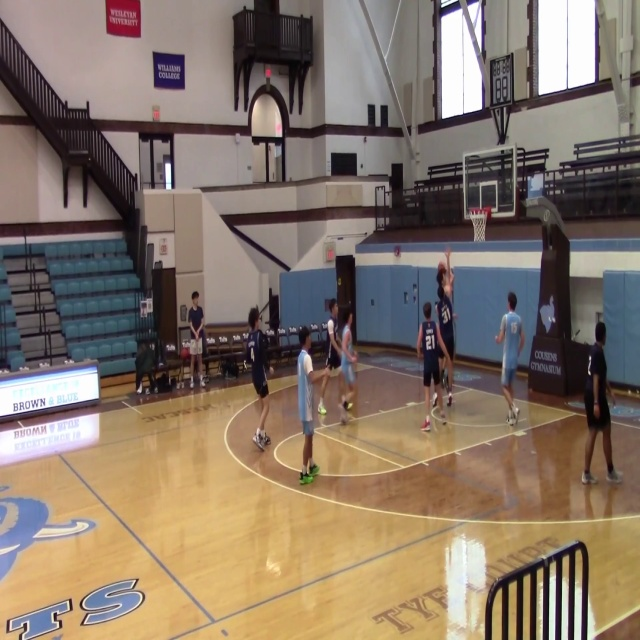Basketball: (343, 400, 353, 410), (317, 405, 327, 415), (437, 262, 446, 272)
